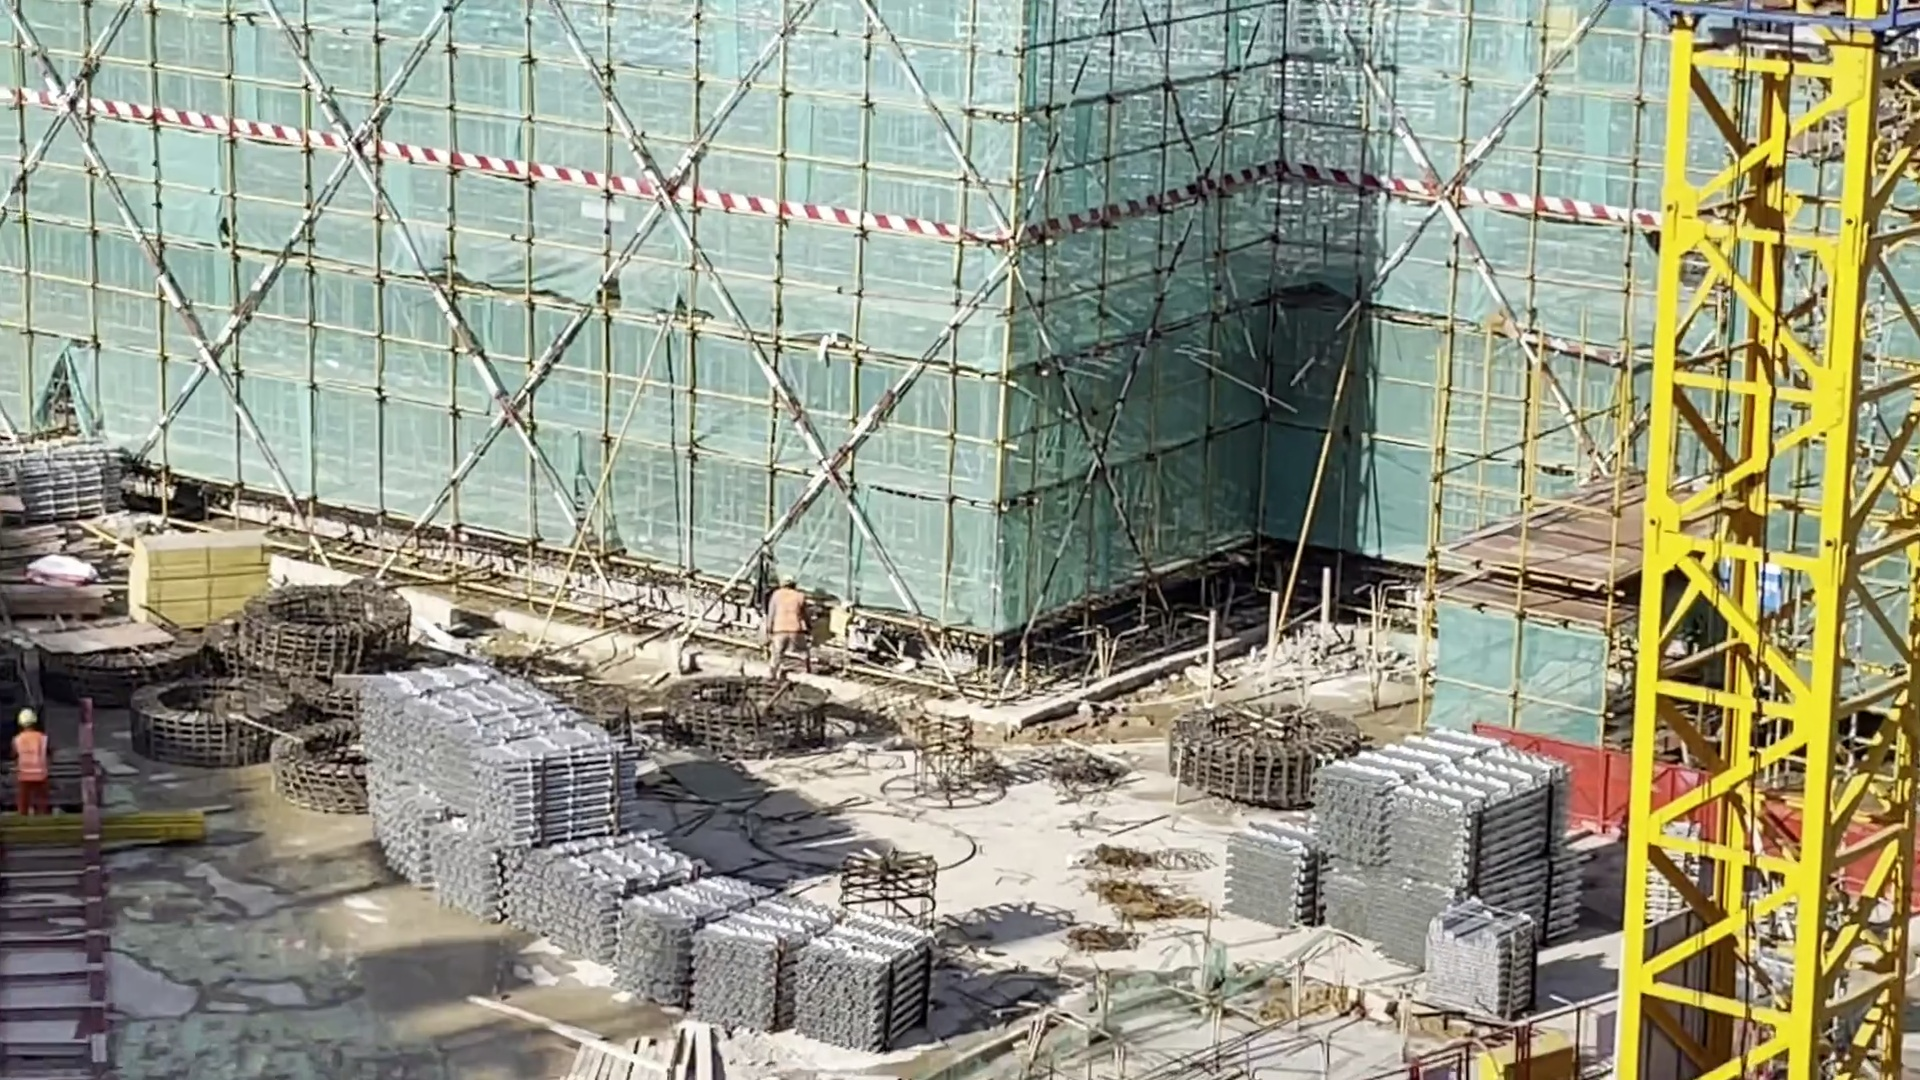board: (133, 538, 266, 622)
ebox: (1485, 1042, 1581, 1080)
fence: (1536, 738, 1628, 818)
helmet: (12, 710, 38, 726)
person: (766, 570, 804, 686), (16, 710, 54, 819)
scaffold: (1319, 739, 1577, 950), (615, 889, 936, 1046), (356, 674, 631, 850), (513, 843, 702, 953), (1419, 911, 1529, 1012), (1229, 822, 1329, 924), (1, 443, 121, 526)
vest: (769, 587, 801, 638), (16, 731, 48, 780)
